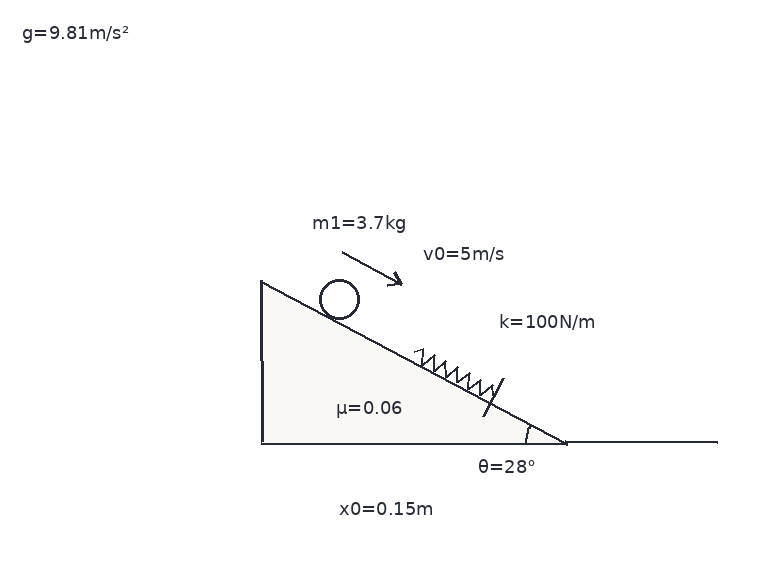ball: (317, 277, 361, 321)
ramp: (258, 279, 568, 445)
spring: (412, 347, 496, 397)
